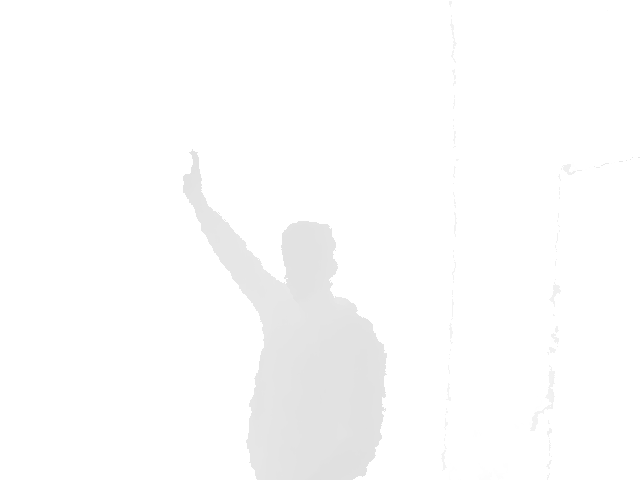hand: (180, 148, 206, 195)
head: (281, 221, 338, 309)
person: (181, 148, 389, 480)
